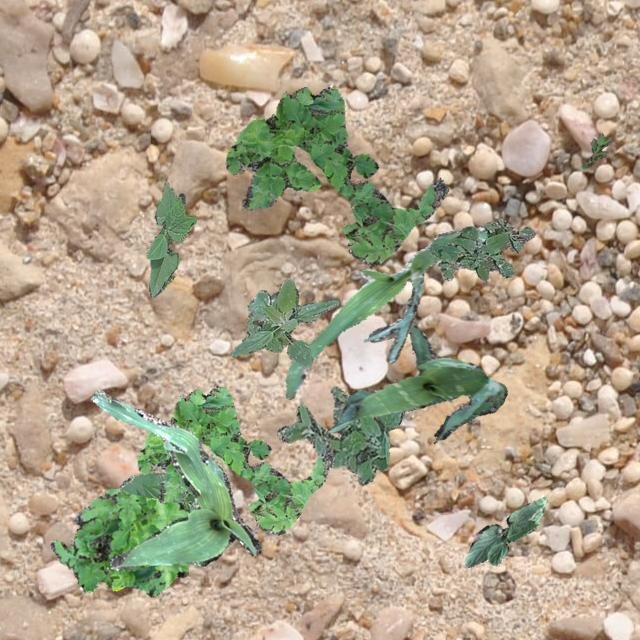crop: (284, 225, 488, 398), (90, 390, 260, 570), (328, 324, 506, 442), (230, 278, 338, 367), (144, 182, 196, 296), (464, 496, 546, 566), (118, 472, 194, 512)
weed: (225, 86, 448, 264), (136, 386, 334, 534), (50, 488, 188, 596), (276, 386, 404, 484), (428, 218, 534, 280), (582, 132, 610, 168)
